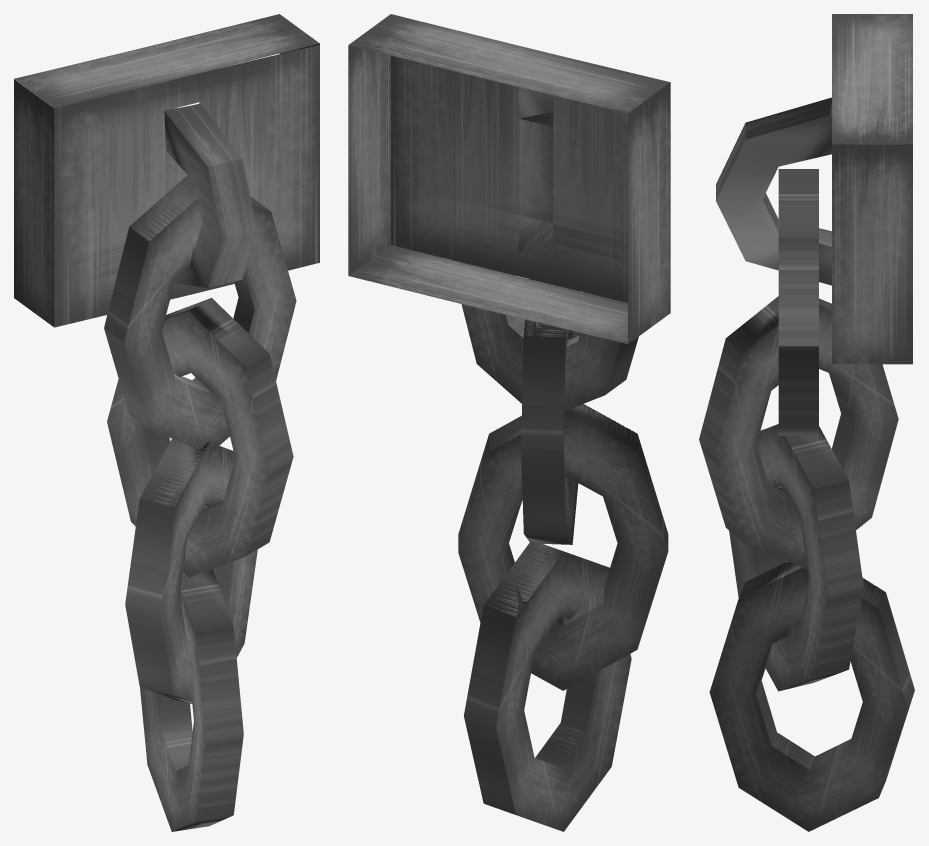
Rendered from chains.FBX.
3 renders of one model, left to right at view 1: azimuth 30°, elevation 25°; view 2: azimuth 150°, elevation 25°; view 3: azimuth 270°, elevation 25°, orthographic. The views are drawn at different scales.
Visible parts, largest first — view 1: Box001; view 2: Box001; view 3: Box001.
Part boxes in pixels (x1,y1,x2,y2): Box001: (14,14,319,831); Box001: (348,14,670,831); Box001: (699,14,914,831).
Bounding box in the file's own units: 0.6508 × 1.74 × 0.4564.
